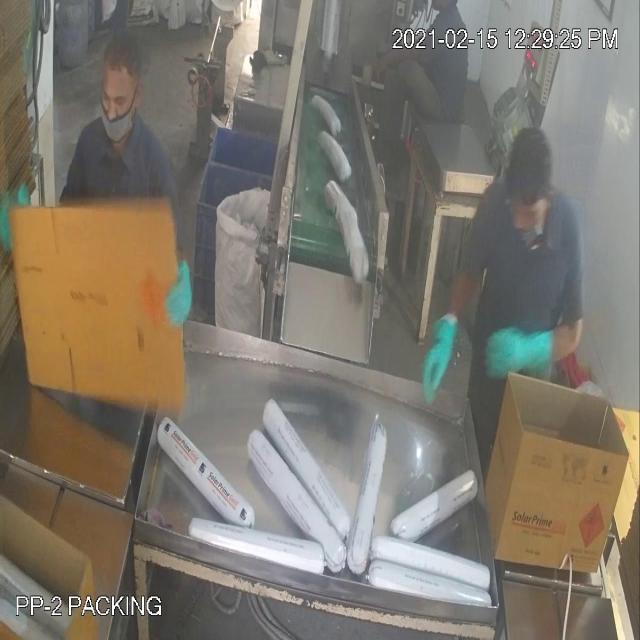gloves: (479, 311, 575, 397), (418, 297, 464, 427), (161, 254, 197, 342)
no-gloves: (376, 40, 440, 85)
